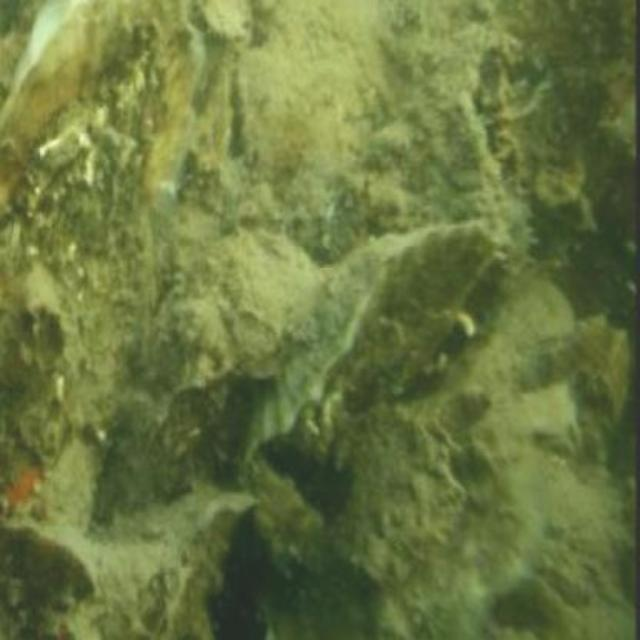Oyster-Closed: (264, 229, 506, 462), (3, 0, 132, 152)
